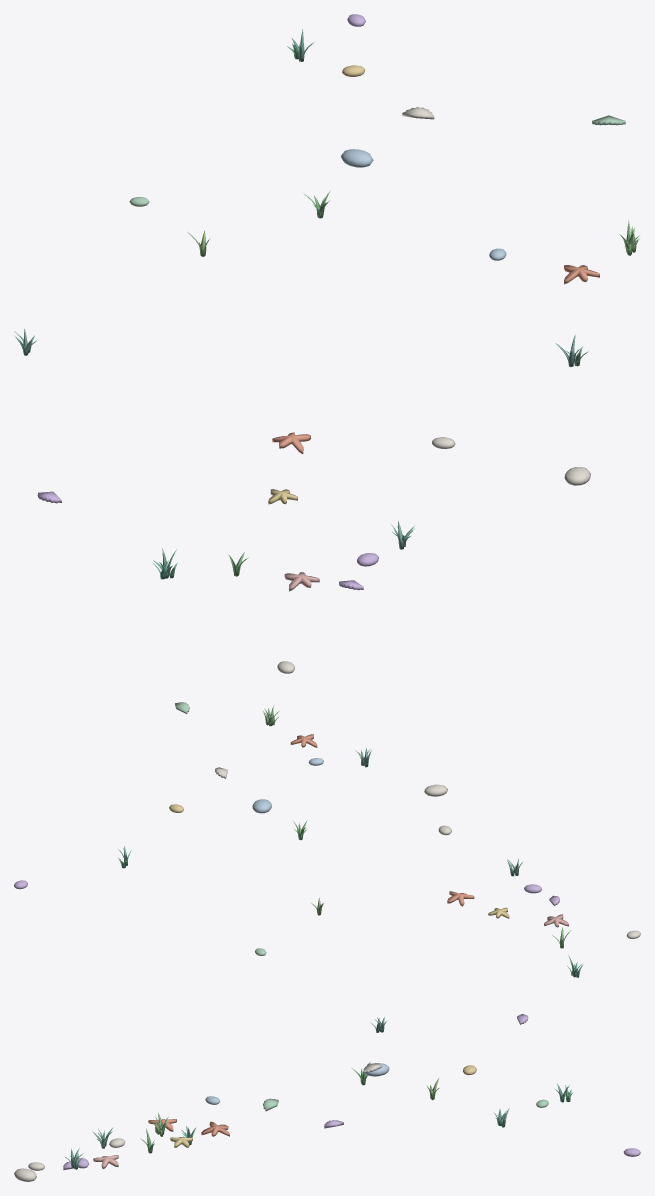
The model's file is W2_FloraRing_12_9.fbx.
3 views of the same model, one above another, from view 1: azimuth 30°, elevation 25°; view 2: azimuth 150°, elevation 25°; view 3: azimuth 270°, elevation 25° (orthographic). The views are drawn at different scales.
Visible parts, largest first — view 1: W2_FloraRing_12_9; view 2: W2_FloraRing_12_9; view 3: W2_FloraRing_12_9.
Part boxes in pixels (x1,y1,x2,y2): W2_FloraRing_12_9: [14, 14, 639, 673]; W2_FloraRing_12_9: [14, 702, 640, 1032]; W2_FloraRing_12_9: [14, 1062, 640, 1181].
Bounding box in the file's own units: 2.75 × 1.58 × 3.66.
